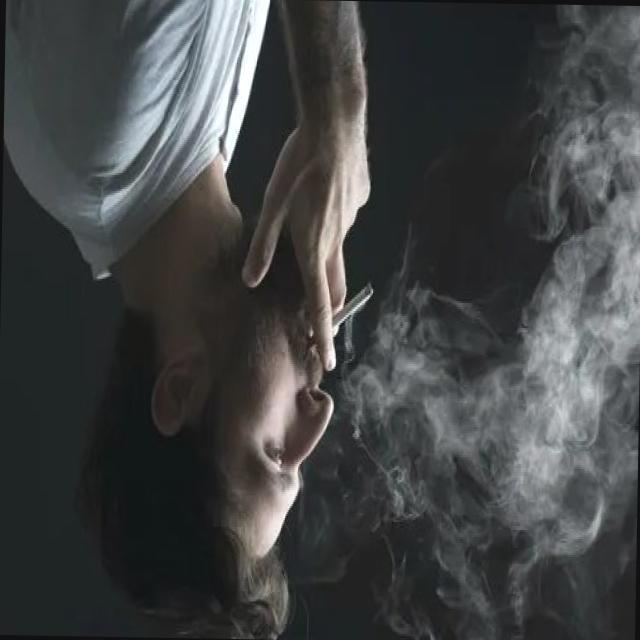smoke: (308, 274, 376, 355)
